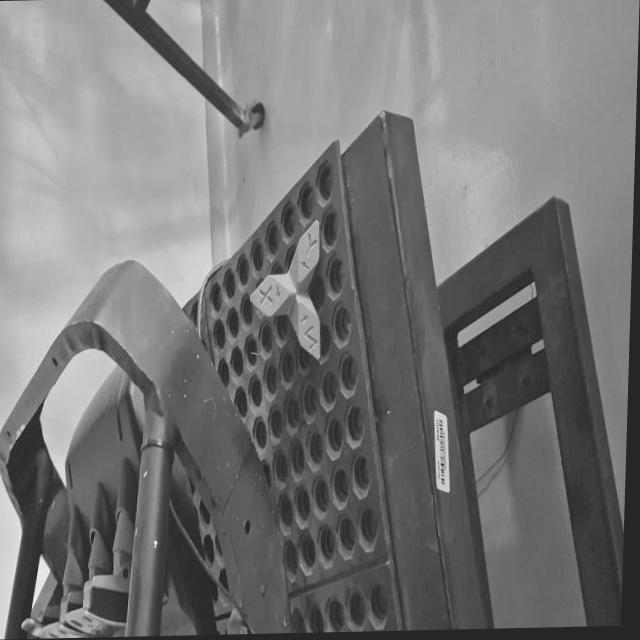eje: (247, 217, 325, 362)
